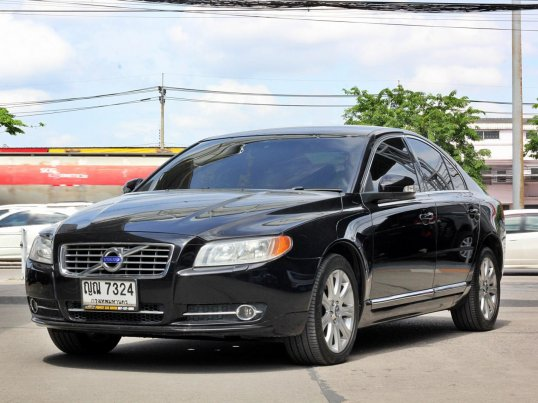sedan: (22, 123, 507, 365)
